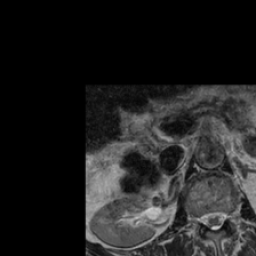CCS_normal: (210, 200, 218, 238)
LFS_normal: (226, 200, 234, 231)
LLS_normal: (218, 202, 226, 230)
RFS_stenosis: (194, 206, 200, 234)
RLS_normal: (200, 203, 210, 232)
